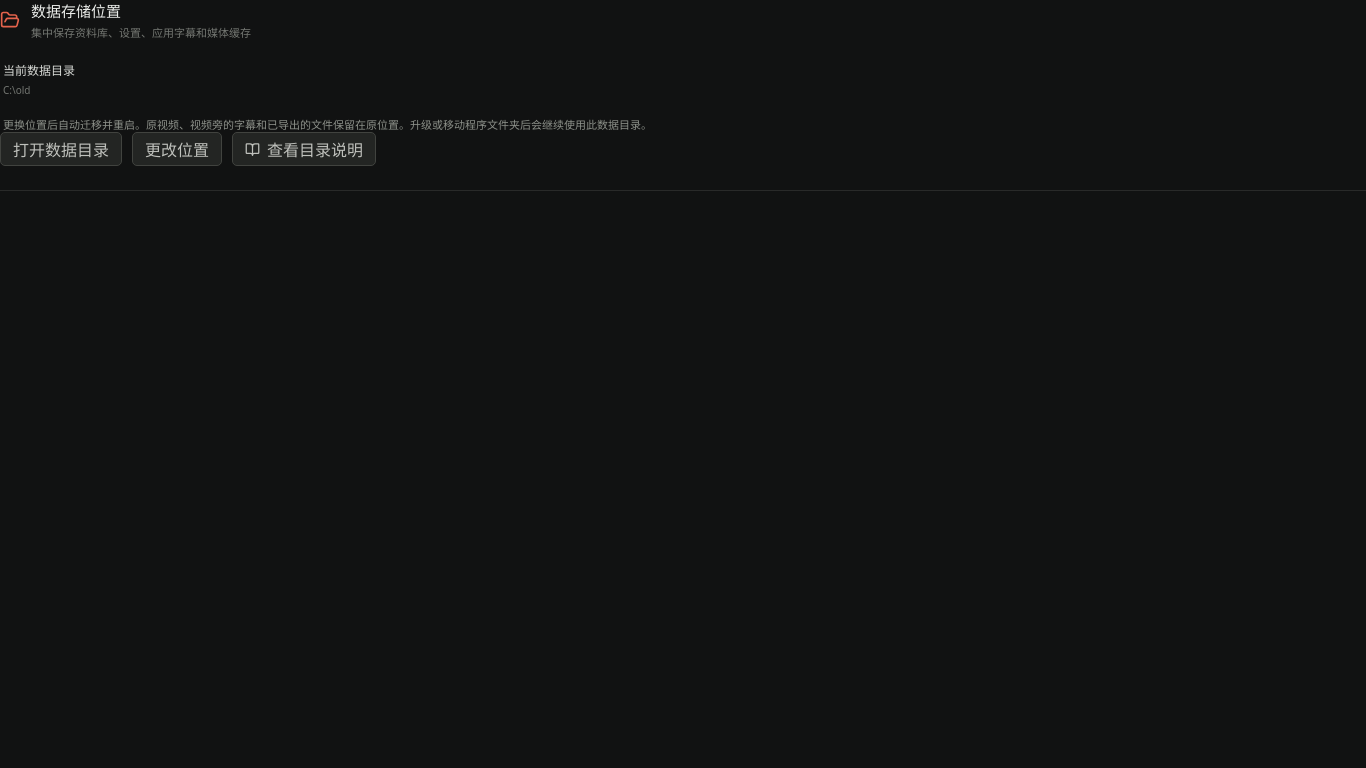
Test: data storage settings › displays migration failures and allows choosing another location
This screenshot has width=1366, height=768.
expect the text "C:\\old" is shown: met, box 3,83 -> 30,97
Click the button "更改位置".
click(177, 149)  # box 132,132 -> 222,166
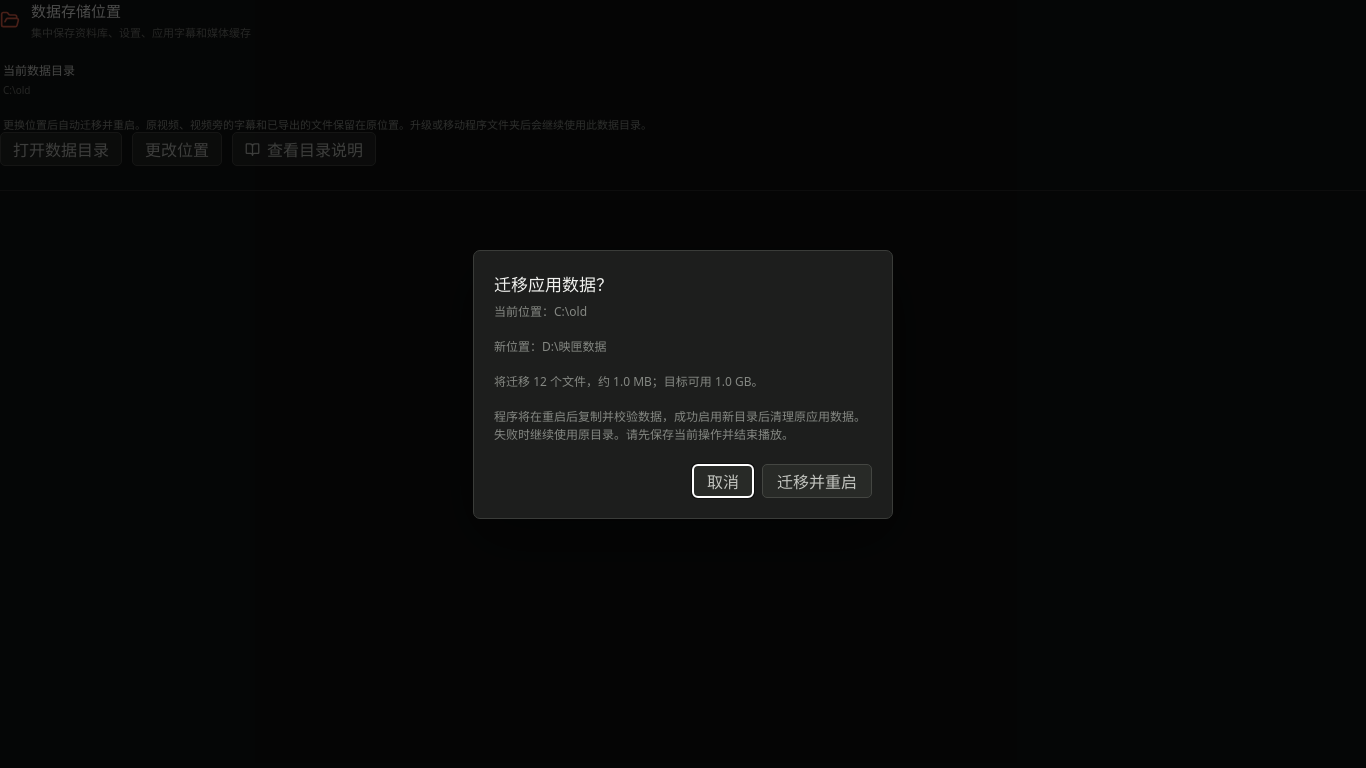
expect the dialog is shown: met, box 473,250 -> 893,518
Click the button "迁移并重启".
click(817, 480)  # box 762,464 -> 872,498
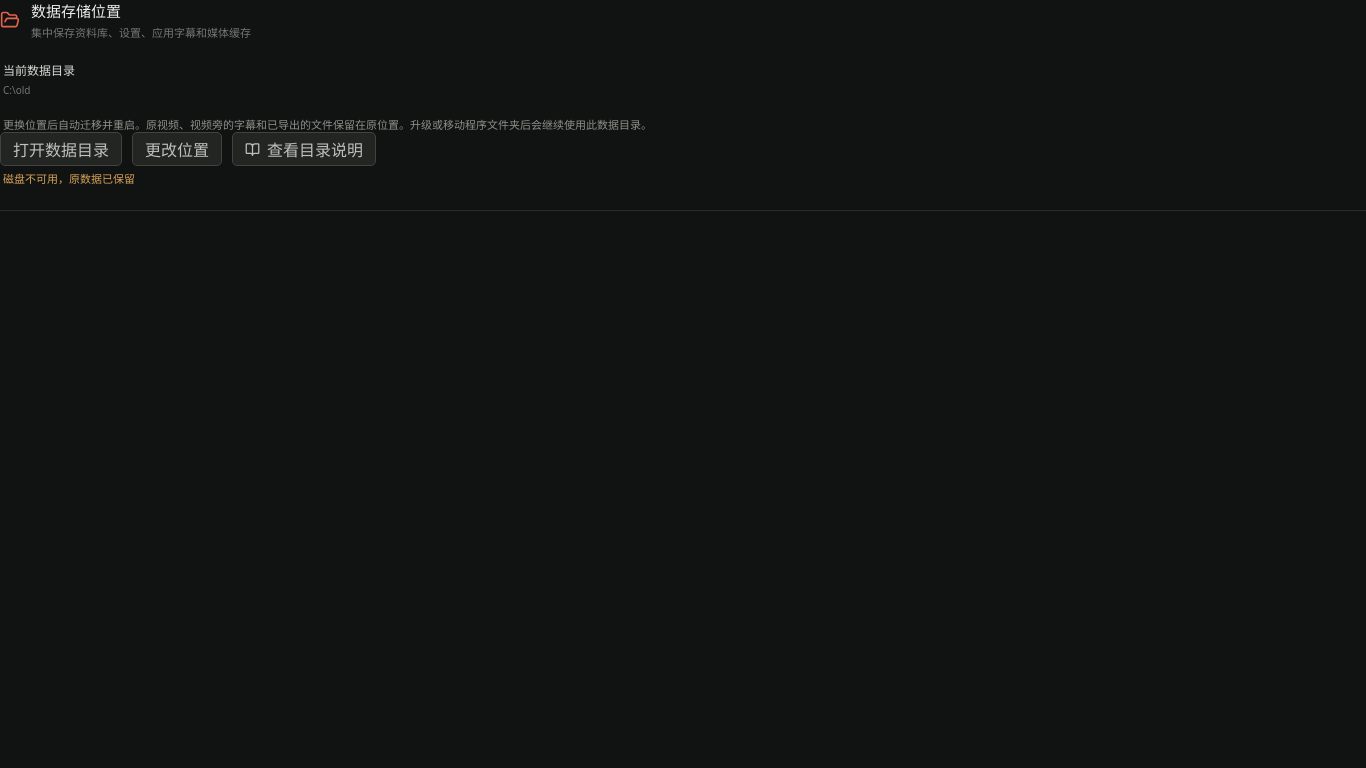
expect the button "更改位置" is enabled: met, box 132,132 -> 222,166
expect the text "磁盘不可用，原数据已保留" is shown: met, box 3,171 -> 135,186
expect the dialog is gone: met
